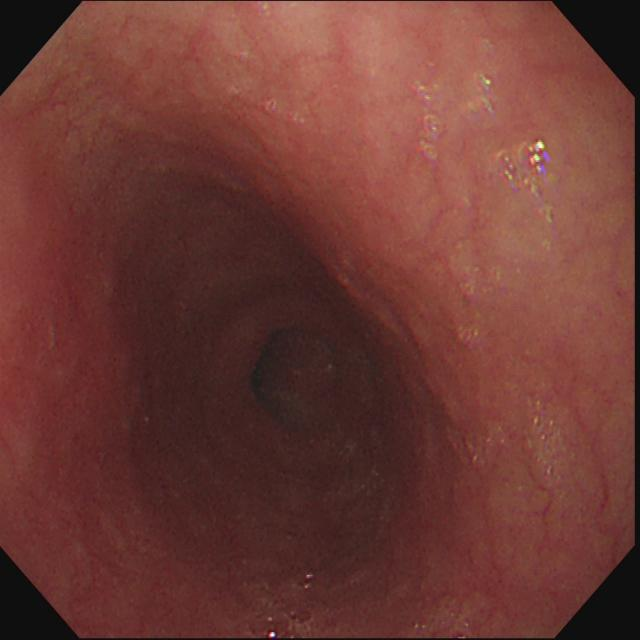E: (244, 323, 344, 438)
T: (494, 140, 552, 196)
